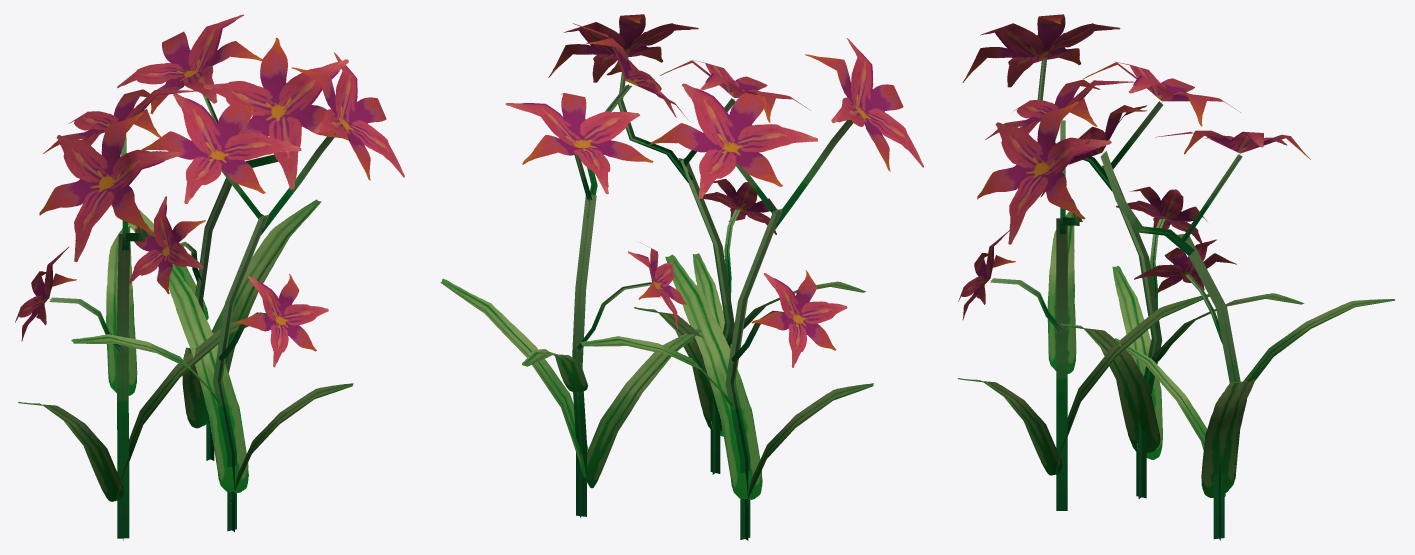
The model's file is SM_FireFlowers_Bush.fbx.
3 views of the same model, side by side, from view 1: azimuth 30°, elevation 25°; view 2: azimuth 150°, elevation 25°; view 3: azimuth 270°, elevation 25° (orthographic).
Parts seen in each view (by area): view 1: FireBouquet; view 2: FireBouquet; view 3: FireBouquet.
Boxes of the visible parts, x1,y1,x2,y2 form: FireBouquet: (15, 14, 404, 540); FireBouquet: (440, 14, 923, 540); FireBouquet: (958, 14, 1395, 540).
Size of the model in its own units: 107 by 126 by 110.
Materials: 1 (1 with a texture image).
